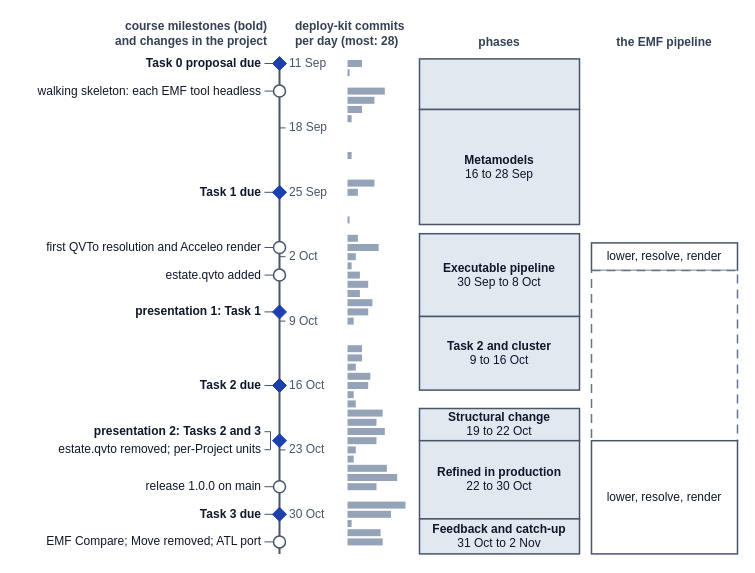
Some shapes in this 755 by 573 pixel diagram are drawn without their labels. Here are the shapes that lost their labels. From the top down, the centre of each, then its label:
At (x=499, y=84): "Toolchain proof 11 to 16 Sep".
At (x=664, y=355): "estate.qvto a third QVTo pass over every Project 4 to 22 Oct".
